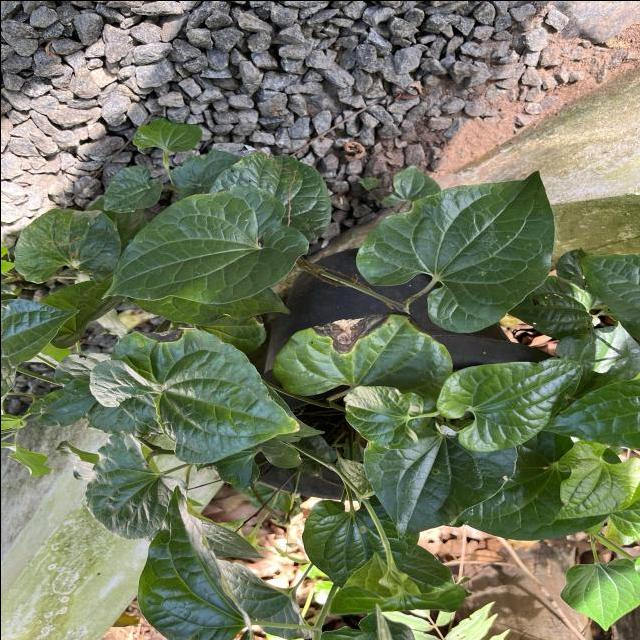Piper longum: (352, 167, 557, 335), (98, 182, 310, 306), (361, 430, 519, 544), (432, 356, 590, 452)
